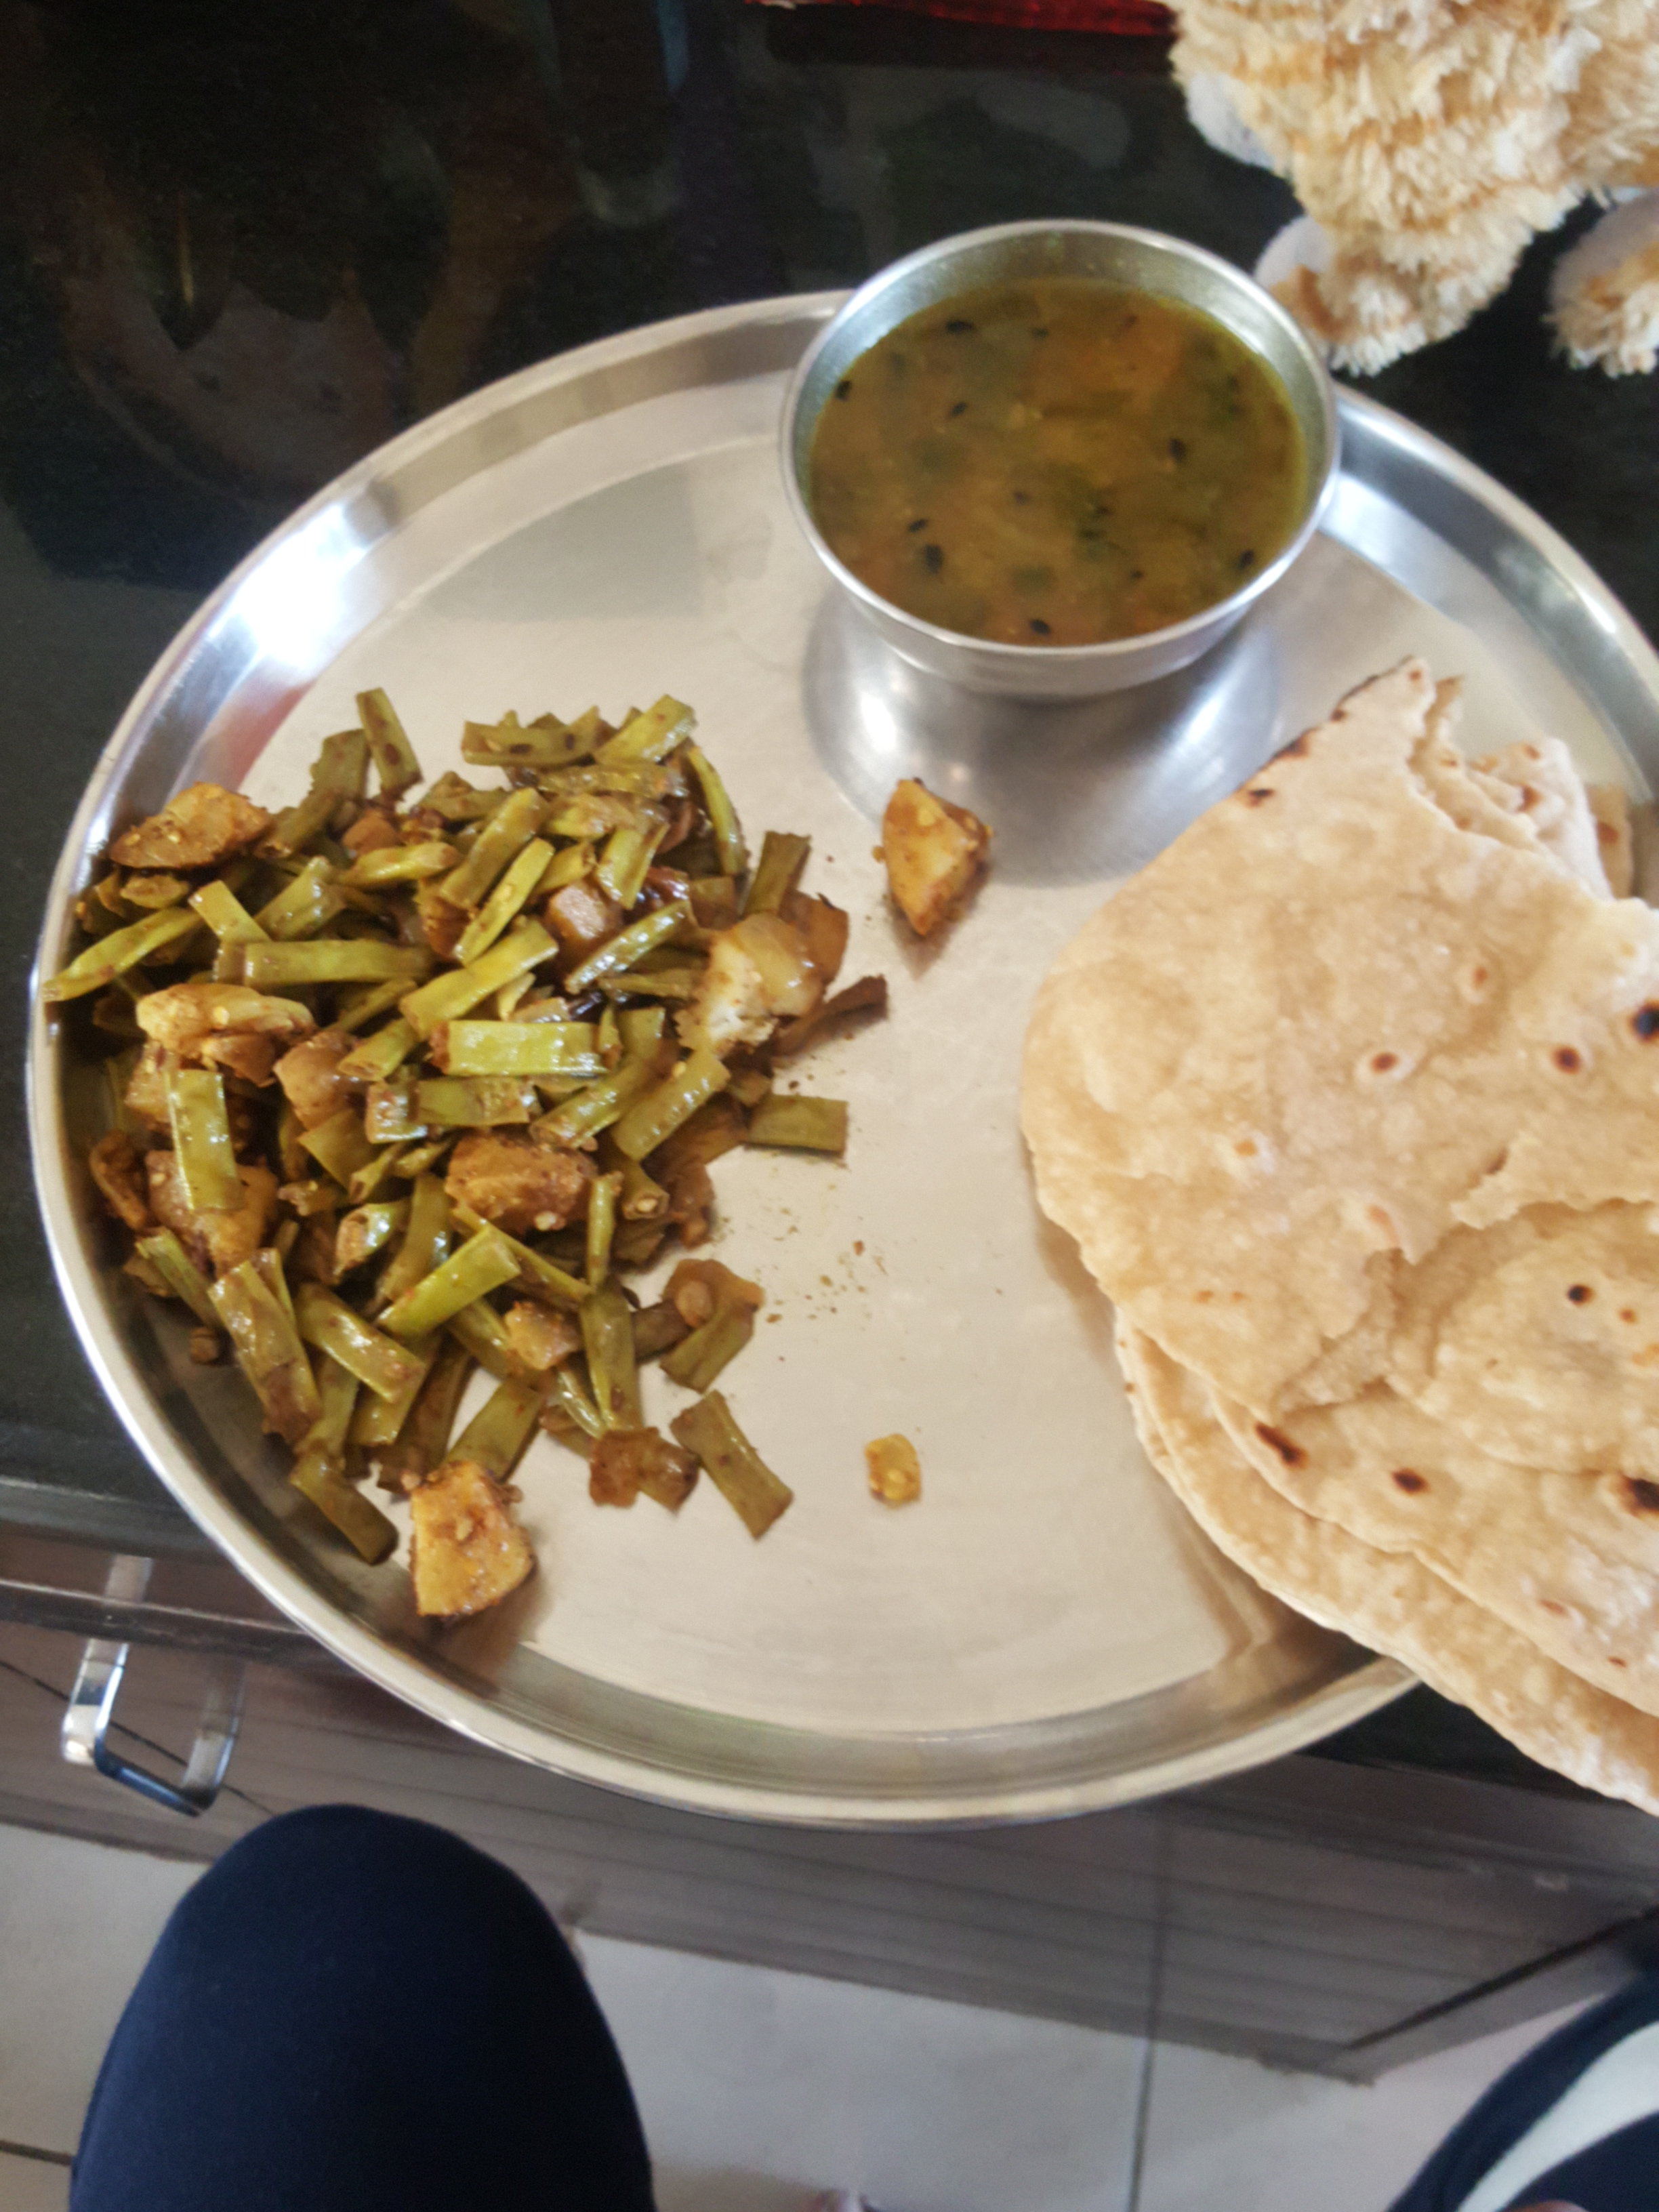food: (26, 209, 1659, 1831)
